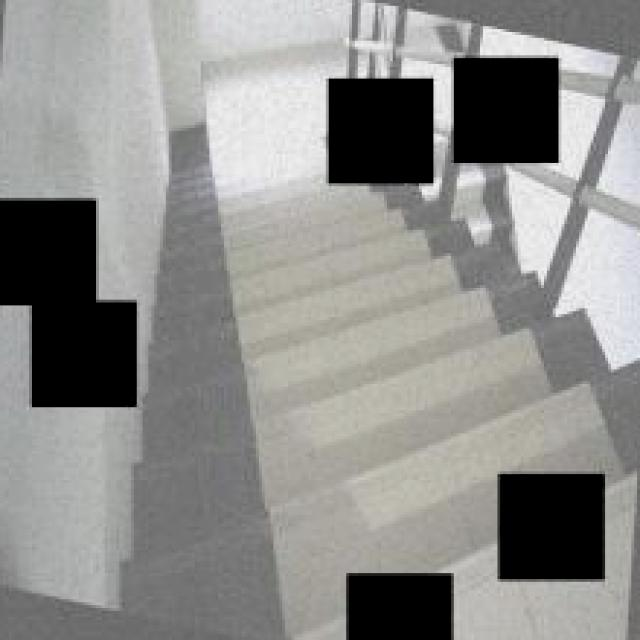downstair: (167, 222, 490, 542)
